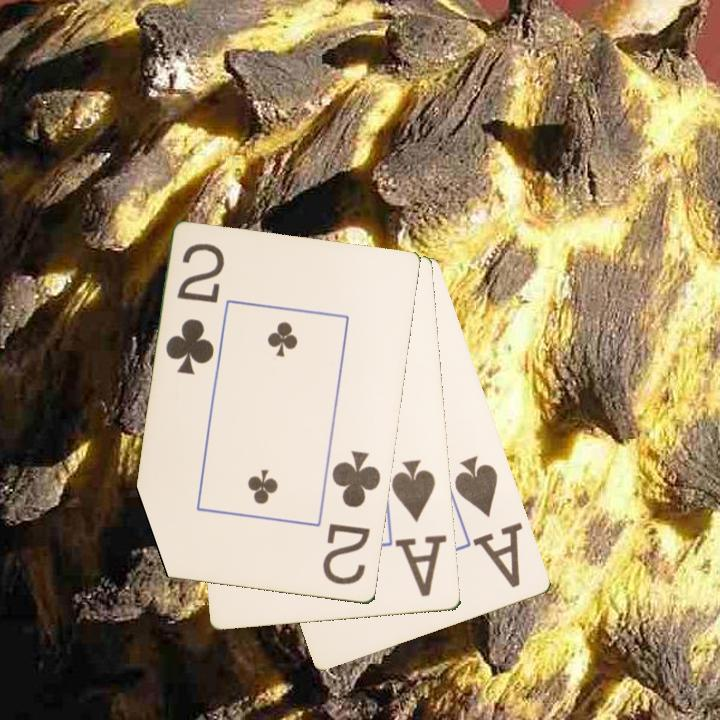2c: (319, 448, 384, 589), (162, 240, 228, 378)
As: (451, 452, 517, 578), (388, 456, 439, 587)
